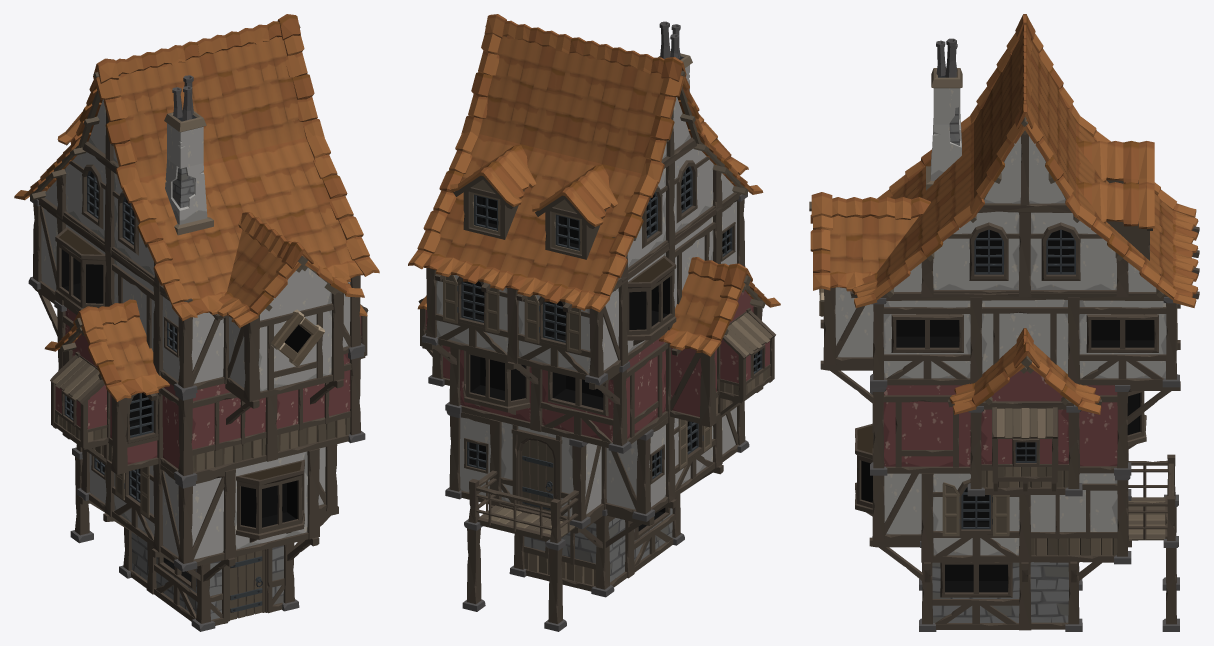
File: bld_windmill.gltf
3 views of the same model, side by side, from view 1: azimuth 30°, elevation 25°; view 2: azimuth 150°, elevation 25°; view 3: azimuth 270°, elevation 25° (orthographic). The views are drawn at different scales.
Parts seen in each view (by area): view 1: bld_windmill; view 2: bld_windmill; view 3: bld_windmill.
Part boxes in pixels (box(x1,y1,x2,y2)): bld_windmill: box(14, 14, 379, 631); bld_windmill: box(408, 14, 780, 631); bld_windmill: box(809, 14, 1199, 631).
Bounding box in the file's own units: 9.3 × 15.49 × 10.
1 material, 1 textured.
